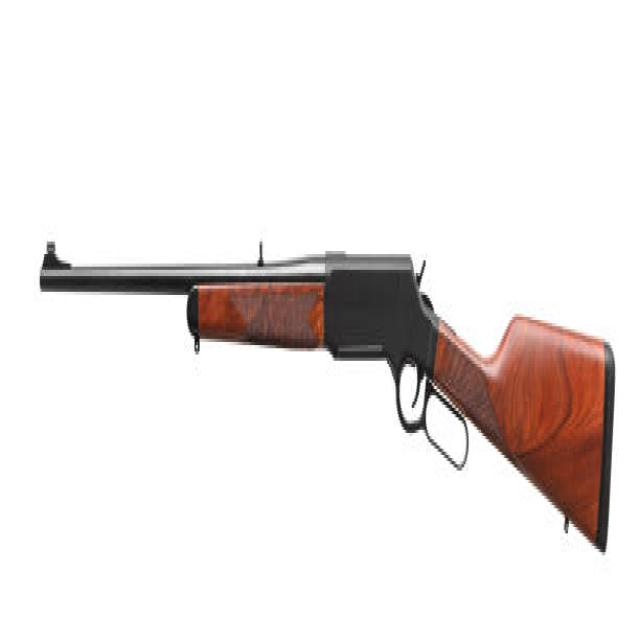rifle: (35, 228, 619, 573)
